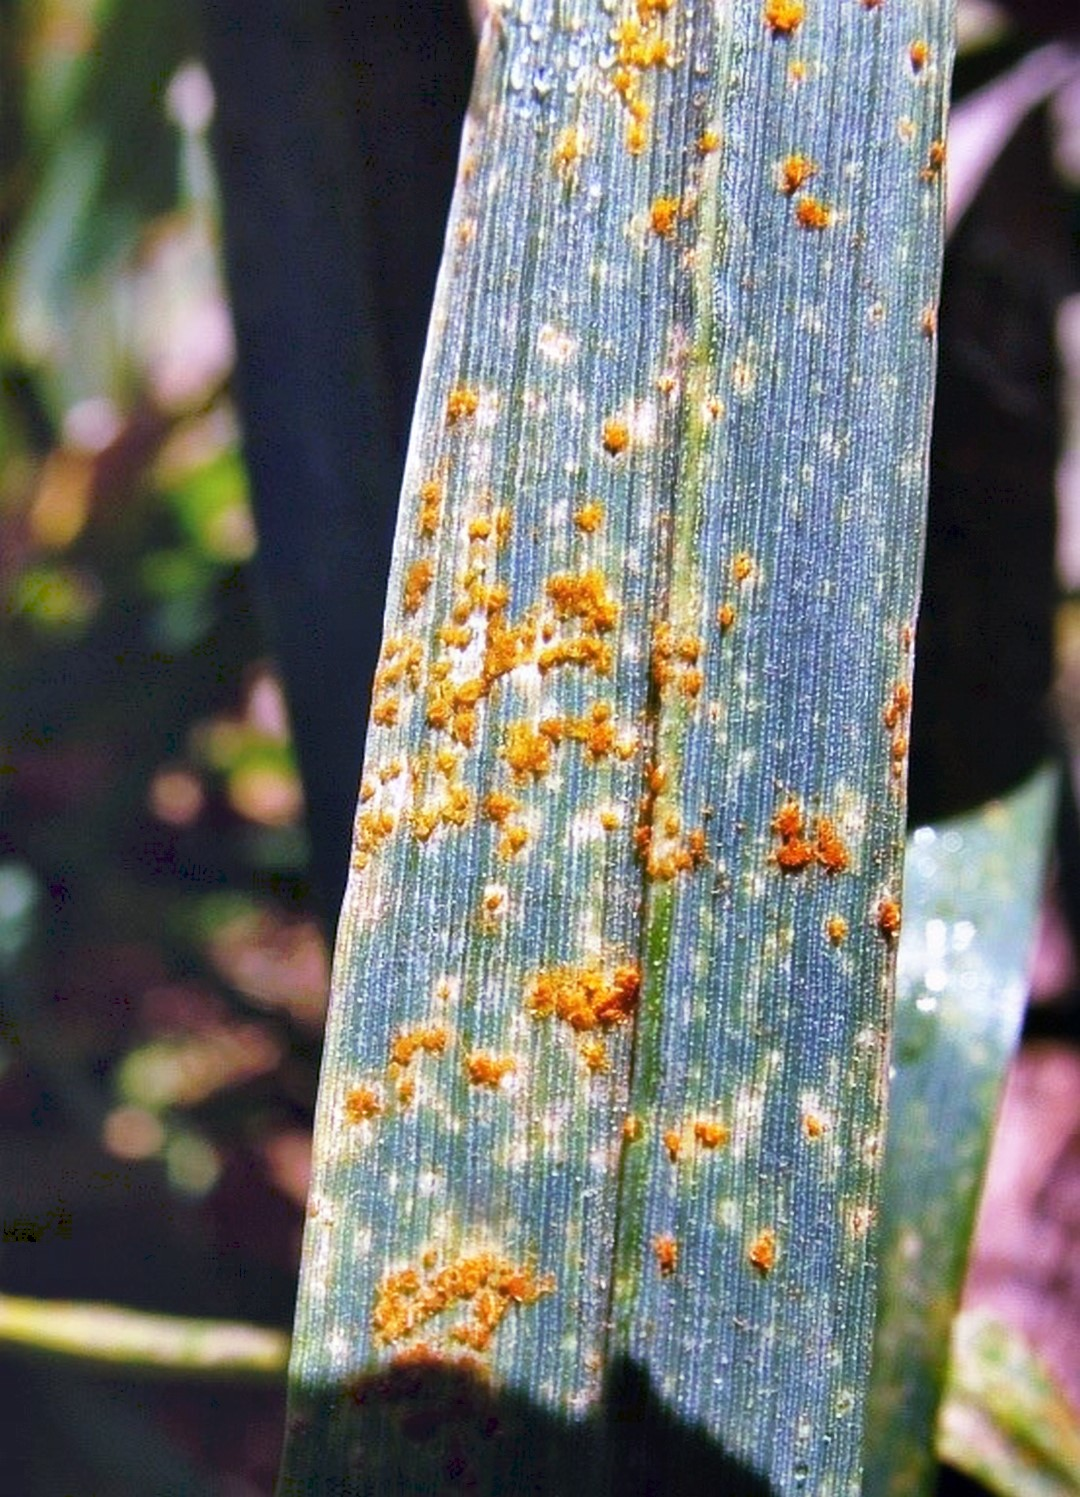Leaf Rust: (289, 37, 910, 1334)
